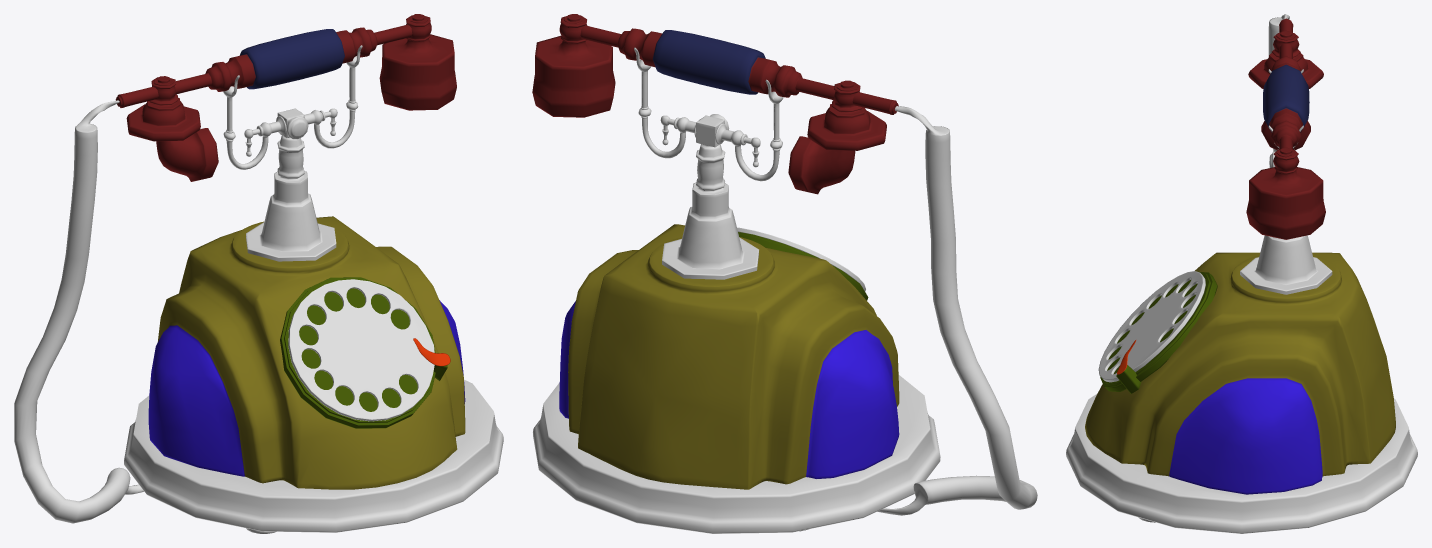
Rendered from Old Fashioned Dial Phone Optimization Smooth.fbx.
3 renders of one model, left to right at view 1: azimuth 30°, elevation 25°; view 2: azimuth 150°, elevation 25°; view 3: azimuth 270°, elevation 25°, orthographic. The views are drawn at different scales.
Visible parts, largest first — view 1: Main_Body, Base, Handle, RotaryDial, Cable, Handle_Holder, Dial_Plate; view 2: Main_Body, Base, Handle, Cable, Handle_Holder, Dial_Plate, RotaryDial; view 3: Main_Body, Base, Handle, RotaryDial, Handle_Holder, Dial_Plate.
Boxes of the visible parts, box(x1,y1,x2,y2) form: Main_Body: box(148, 216, 465, 489); Base: box(124, 379, 503, 533); Handle: box(115, 14, 456, 181); RotaryDial: box(288, 279, 434, 421); Cable: box(14, 100, 143, 523); Handle_Holder: box(223, 45, 362, 261); Dial_Plate: box(280, 277, 450, 428); Main_Body: box(559, 224, 899, 489); Base: box(533, 375, 940, 533); Handle: box(532, 14, 898, 194); Cable: box(877, 106, 1037, 515); Handle_Holder: box(634, 47, 783, 279); Dial_Plate: box(738, 232, 868, 300); RotaryDial: box(737, 227, 865, 291); Main_Body: box(1085, 252, 1395, 494); Base: box(1066, 393, 1417, 533); Handle: box(1246, 18, 1325, 239); RotaryDial: box(1098, 271, 1205, 382); Handle_Holder: box(1240, 69, 1332, 294); Dial_Plate: box(1100, 271, 1217, 393).
Size of the model in its own units: 18.48 by 16.4 by 13.41.
